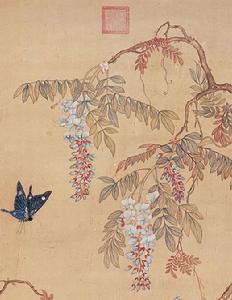butterfly: (1, 179, 52, 225)
flower: (58, 97, 100, 208), (119, 198, 161, 296)
